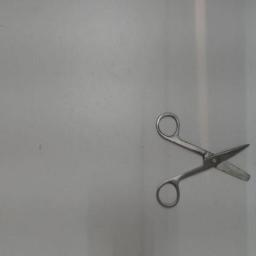Dressing Scissors: (151, 108, 255, 214)
